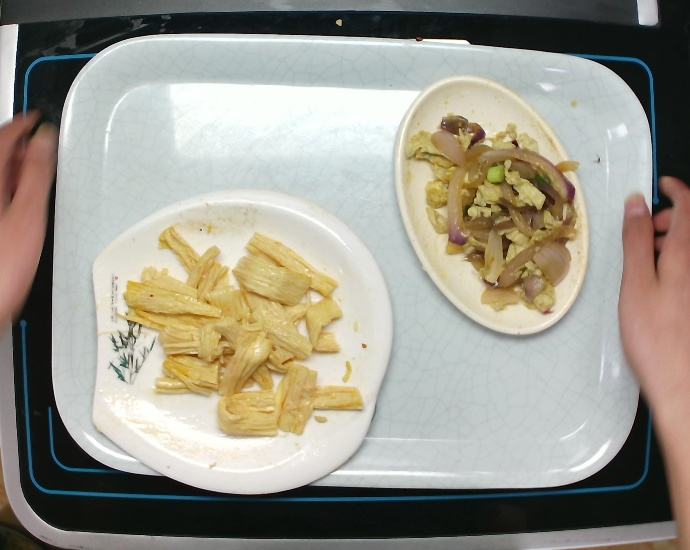JYsf-Mian_Pan: (86, 185, 397, 498)
JYsf-Tuo_Yuan_Wan: (389, 71, 593, 339)
